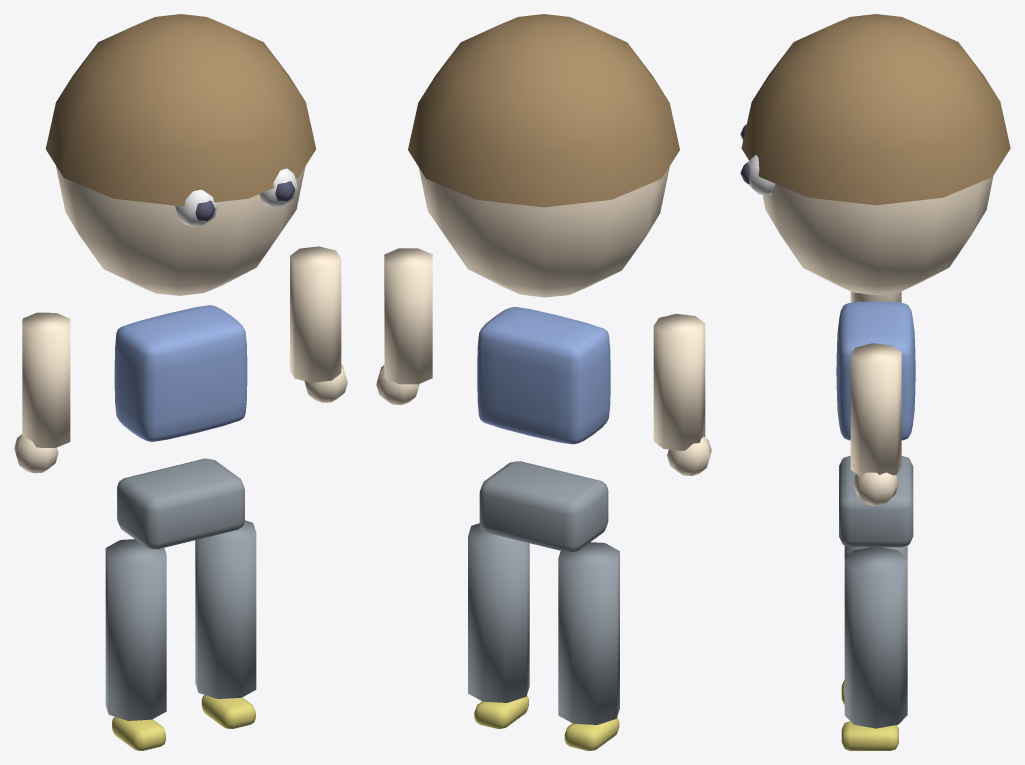
The model's file is character.glb.
3 views of the same model, side by side, from view 1: azimuth 30°, elevation 25°; view 2: azimuth 150°, elevation 25°; view 3: azimuth 270°, elevation 25° (orthographic).
Parts seen in each view (by area): view 1: Char_Hair, Char_Head, Char_Body, Char_Leg_L, Char_Leg_R, Char_Pants, Char_Arm_Upper_R, Char_Arm_Upper_L, Char_Shoe_R, Char_Shoe_L, Char_Hand_L, Char_Hand_R (+2 smaller); view 2: Char_Hair, Char_Head, Char_Body, Char_Leg_L, Char_Leg_R, Char_Pants, Char_Arm_Upper_L, Char_Arm_Upper_R, Char_Shoe_L, Char_Shoe_R, Char_Hand_L, Char_Hand_R; view 3: Char_Hair, Char_Head, Char_Leg_R, Char_Arm_Upper_R, Char_Body, Char_Pants, Char_Shoe_R, Char_Hand_R, Char_Eye_White_R, Char_Arm_Upper_L.
Boxes of the visible parts, bbox=[...] form: Char_Hair: bbox=[46, 14, 315, 206]; Char_Head: bbox=[56, 166, 305, 295]; Char_Body: bbox=[114, 305, 247, 441]; Char_Leg_L: bbox=[105, 539, 166, 720]; Char_Leg_R: bbox=[195, 520, 256, 698]; Char_Pants: bbox=[117, 458, 244, 549]; Char_Arm_Upper_R: bbox=[290, 246, 341, 382]; Char_Arm_Upper_L: bbox=[22, 312, 70, 447]; Char_Shoe_R: bbox=[201, 695, 255, 728]; Char_Shoe_L: bbox=[112, 717, 165, 750]; Char_Hand_L: bbox=[14, 434, 58, 473]; Char_Hand_R: bbox=[304, 364, 347, 402]; Char_Hair: bbox=[408, 14, 679, 207]; Char_Head: bbox=[419, 167, 669, 297]; Char_Body: bbox=[477, 306, 610, 444]; Char_Leg_L: bbox=[558, 542, 619, 724]; Char_Leg_R: bbox=[468, 523, 529, 702]; Char_Pants: bbox=[479, 461, 608, 552]; Char_Arm_Upper_L: bbox=[653, 313, 705, 450]; Char_Arm_Upper_R: bbox=[384, 248, 432, 384]; Char_Shoe_L: bbox=[564, 717, 619, 750]; Char_Shoe_R: bbox=[474, 695, 528, 728]; Char_Hand_L: bbox=[667, 436, 711, 475]; Char_Hand_R: bbox=[376, 365, 419, 404]; Char_Hair: bbox=[741, 14, 1010, 205]; Char_Head: bbox=[762, 176, 993, 294]; Char_Leg_R: bbox=[844, 547, 907, 728]; Char_Arm_Upper_R: bbox=[850, 343, 901, 476]; Char_Body: bbox=[836, 301, 915, 440]; Char_Pants: bbox=[839, 455, 913, 547]; Char_Shoe_R: bbox=[841, 721, 898, 750]; Char_Hand_R: bbox=[853, 472, 898, 506]; Char_Eye_White_R: bbox=[747, 154, 775, 195]; Char_Arm_Upper_L: bbox=[850, 291, 901, 302].
Size of the model in its own units: 0.66 by 1.35 by 0.472.
